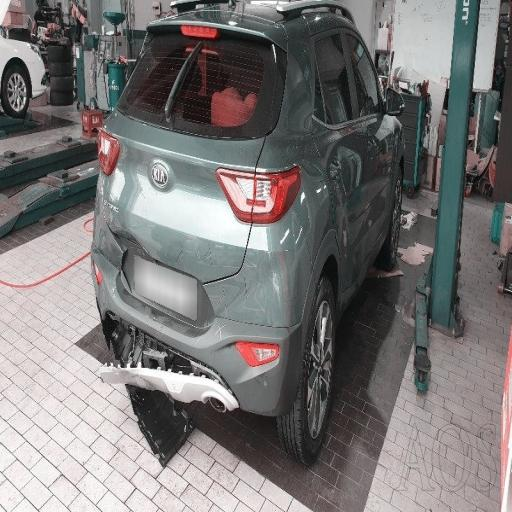broken: (86, 198, 298, 470)
